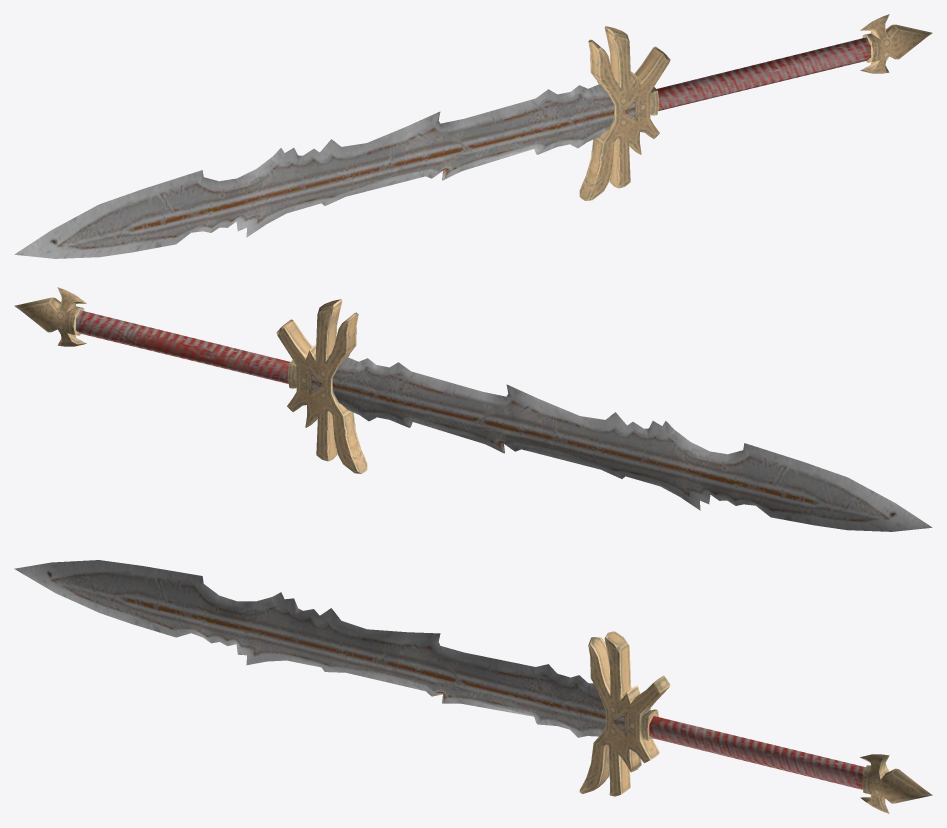
File: dae_bloodletter_sword_2h_01FBX__BIND_POSE.fbx
3 views of the same model, one above another, from view 1: azimuth 30°, elevation 25°; view 2: azimuth 150°, elevation 25°; view 3: azimuth 330°, elevation 25° (orthographic).
Parts seen in each view (by area): view 1: dae_bloodletter_sword_2h_01_lod; view 2: dae_bloodletter_sword_2h_01_lod; view 3: dae_bloodletter_sword_2h_01_lod.
Boxes of the visible parts, box(x1,y1,x2,y2) form: dae_bloodletter_sword_2h_01_lod: box(14, 14, 932, 258); dae_bloodletter_sword_2h_01_lod: box(14, 287, 932, 531); dae_bloodletter_sword_2h_01_lod: box(14, 560, 932, 813).
Size of the model in its own units: 75.09 by 12.85 by 1.71.
